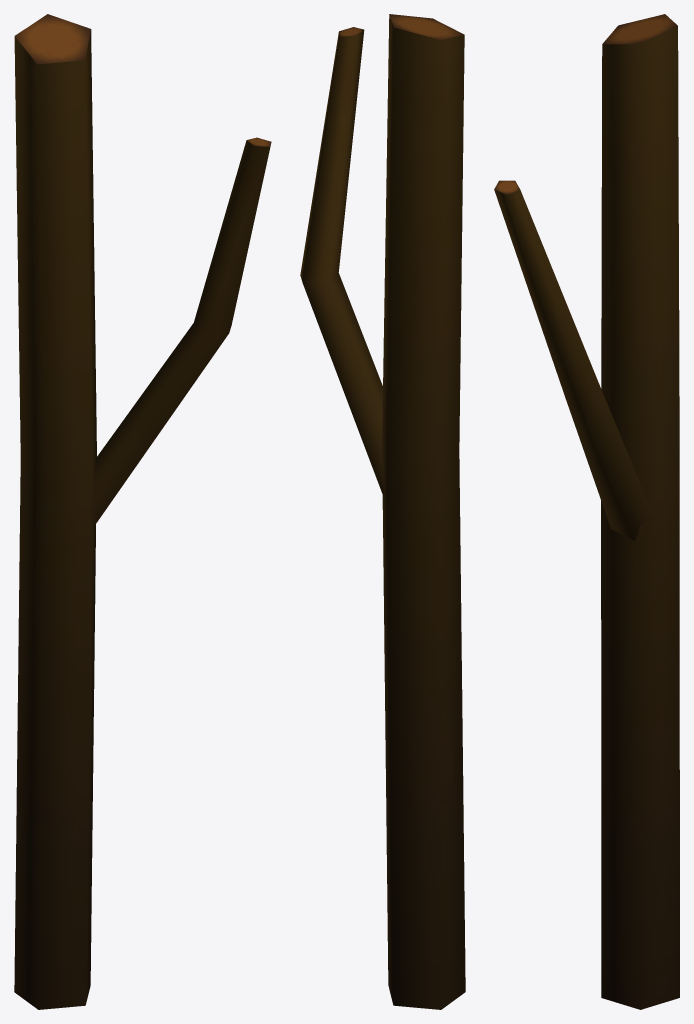
The model's file is Stick_C.fbx.
The picture shows the model from 3 angles, left to right: view 1: azimuth 30°, elevation 25°; view 2: azimuth 150°, elevation 25°; view 3: azimuth 270°, elevation 25°; orthographic projection.
Visible parts, largest first — view 1: Stick_C; view 2: Stick_C; view 3: Stick_C.
Part boxes in pixels (x1,y1,x2,y2): Stick_C: (14, 14, 271, 1009); Stick_C: (300, 14, 465, 1009); Stick_C: (494, 14, 679, 1009).
Bounding box in the file's own units: 13.67 × 12.18 × 70.3.
Materials: 1 (1 with a texture image).
